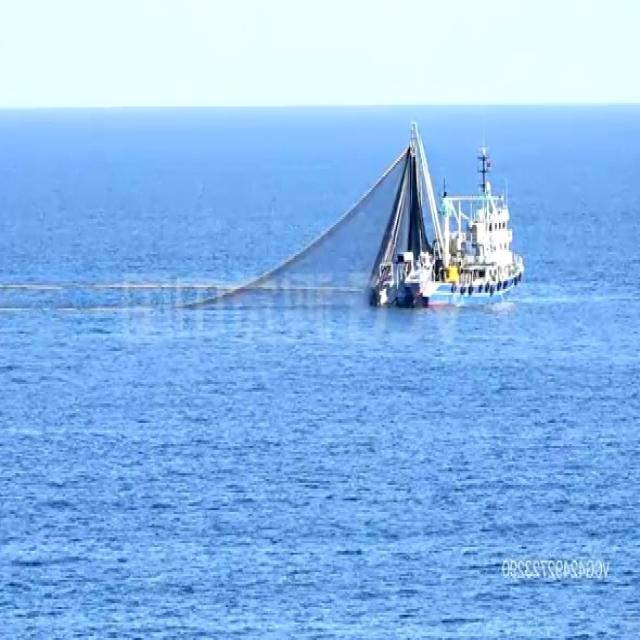fishing boat: (371, 134, 525, 306)
